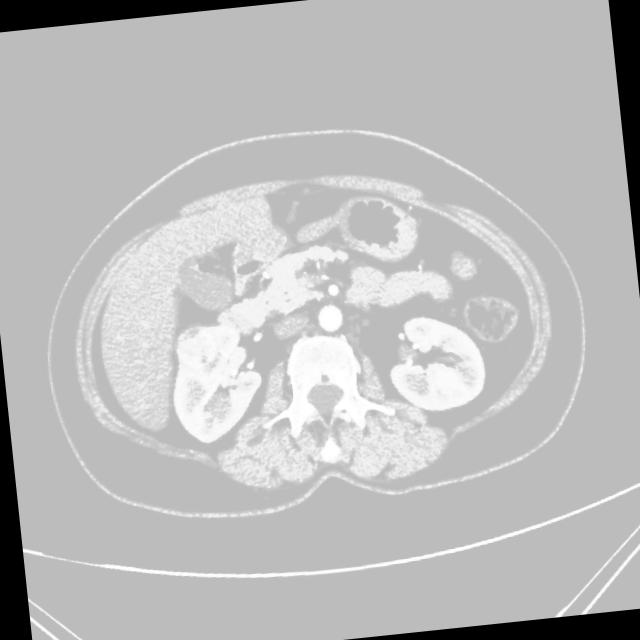TUMOR: (153, 223, 598, 486)
